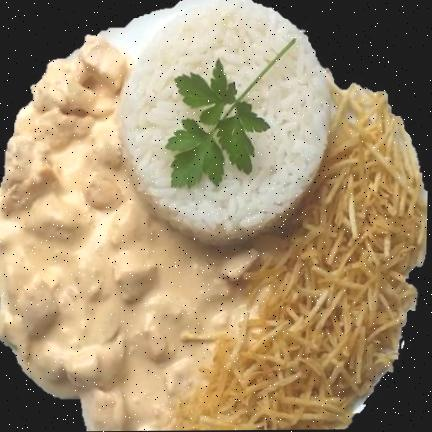chicken: (0, 103, 256, 431)
potato: (176, 85, 428, 431)
rice: (102, 0, 332, 243)
